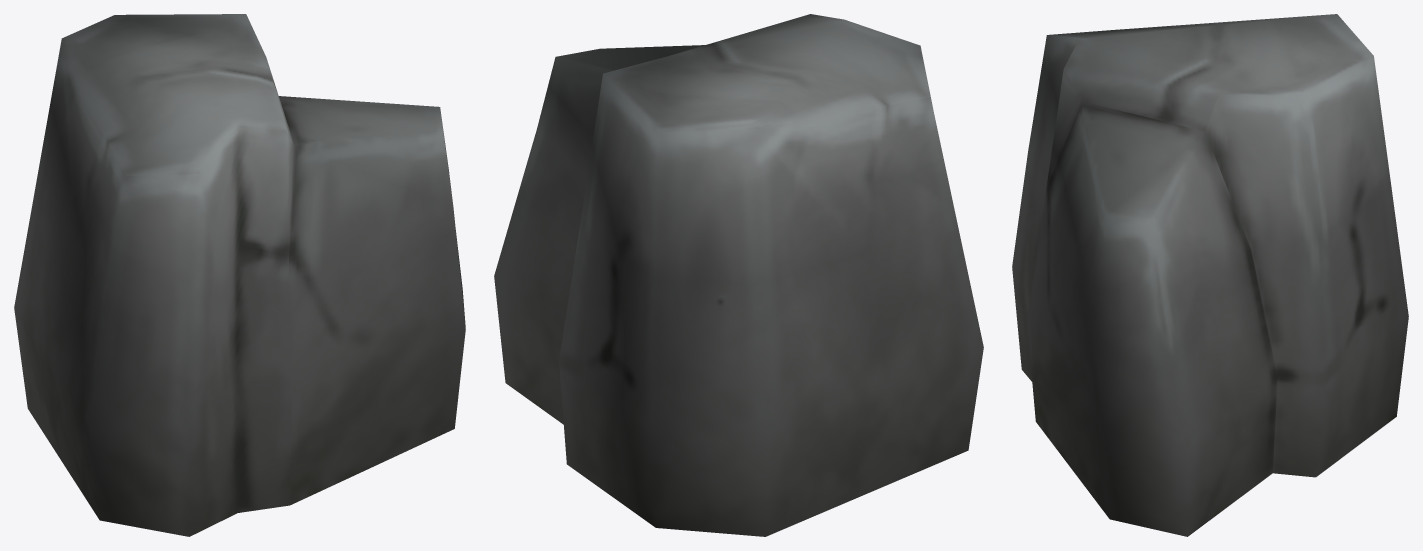
File: Rock_formation6.fbx
3 views of the same model, side by side, from view 1: azimuth 30°, elevation 25°; view 2: azimuth 150°, elevation 25°; view 3: azimuth 270°, elevation 25° (orthographic). The views are drawn at different scales.
Visible parts, largest first — view 1: rock_lp_11; view 2: rock_lp_11; view 3: rock_lp_11.
Part boxes in pixels (bbox=[...]): rock_lp_11: bbox=[14, 14, 465, 536]; rock_lp_11: bbox=[494, 14, 983, 536]; rock_lp_11: bbox=[1012, 14, 1408, 536].
Size of the model in its own units: 0.9111 by 0.7769 by 0.7532.
